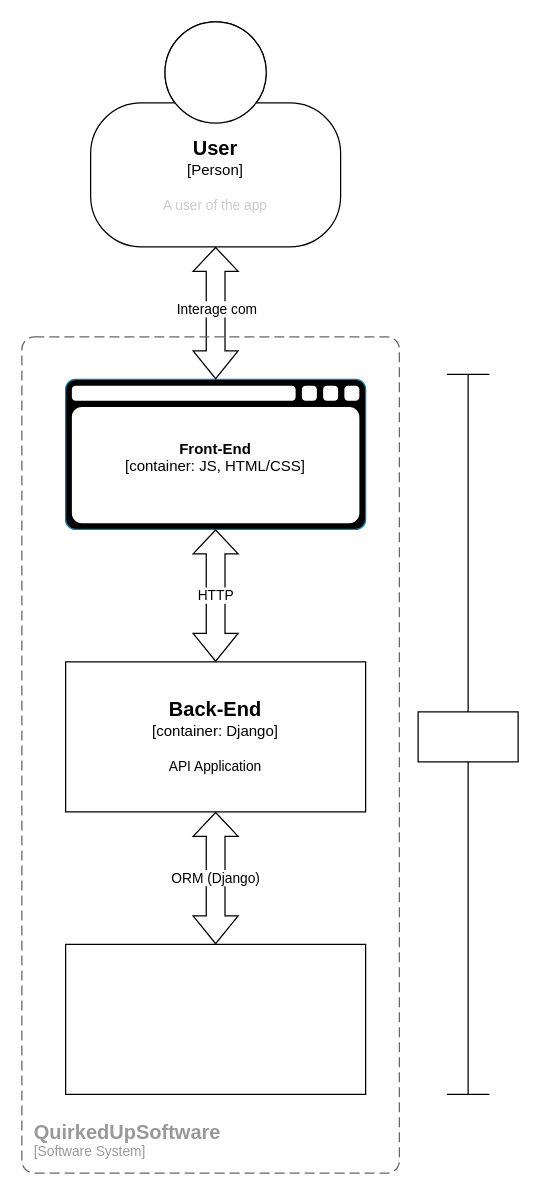
Some shapes in this 540 by 1195 pixel diagram are drawn without their labels. The shapes that lost their labels are listed below. From the top down, each one's box as (x1, y1, x2, y2) in pixels, then its label:
(417, 711, 518, 762): VM - DEI
(64, 943, 366, 1094): DataBase [container: SQLite]
